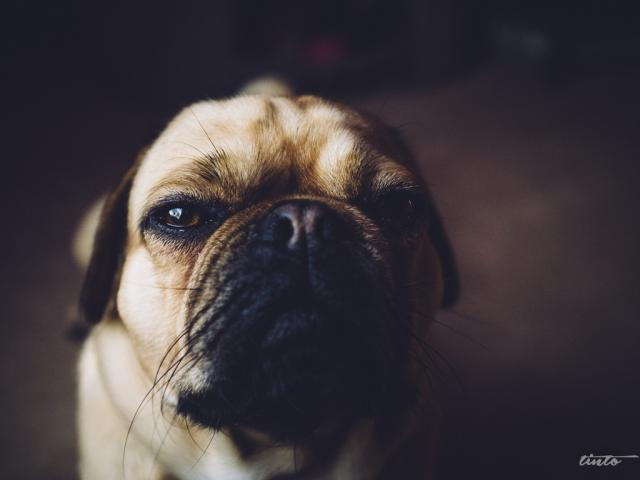Dog: (57, 72, 496, 480)
